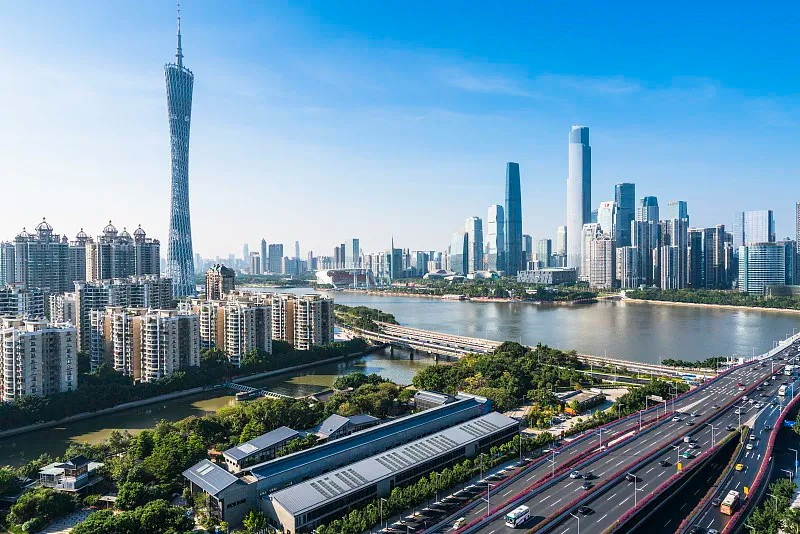Canton: (163, 2, 196, 300)
